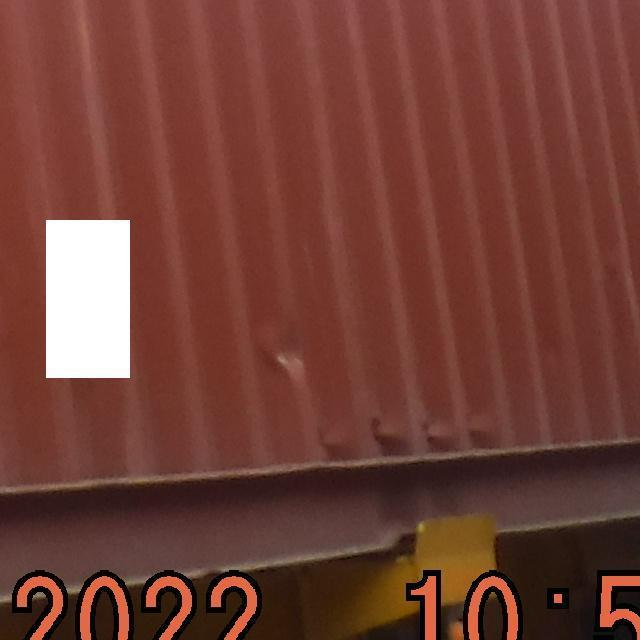dent: (301, 405, 519, 455), (239, 307, 358, 394)
